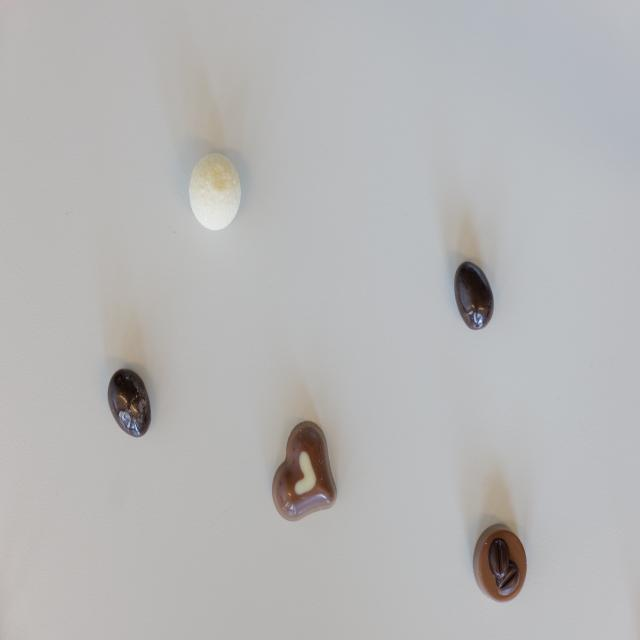Arabia: (473, 526, 528, 606)
Comtesse: (190, 153, 240, 231)
Jelly_Black: (108, 370, 152, 437), (455, 260, 495, 333)
Passion_au_lait: (272, 422, 338, 523)
